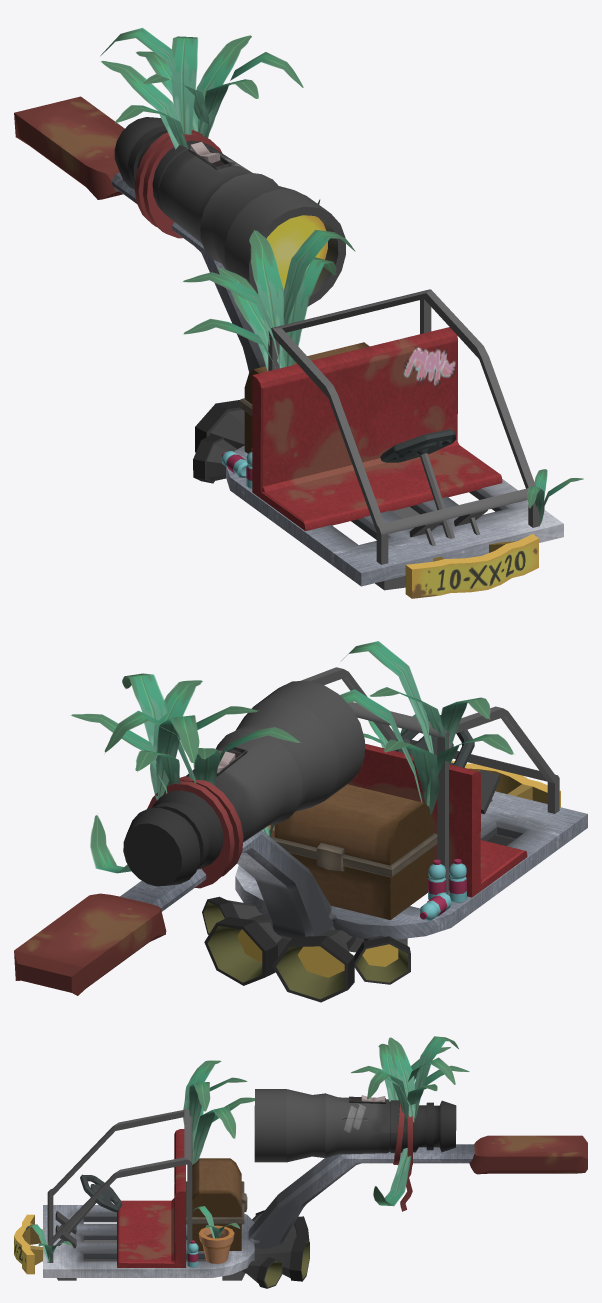
3 views of the same model, one above another, from view 1: azimuth 30°, elevation 25°; view 2: azimuth 150°, elevation 25°; view 3: azimuth 270°, elevation 25° (orthographic). The views are drawn at different scales.
Visible parts, largest first — view 1: Stoel1, Spatel2, zAKLAMP, Metalbars2, Kenteken, pasted__pasted___pPlane2, _pPlane3, Stuur2, Uitlaat4, pasted__pasted___pPlane3, zaklamptouw, _pPlane2 (+9 smaller); view 2: Spatel2, zAKLAMP, Koffer4, Stoel1, Metalbars2, Uitlaat4, Uitlaat2, Uitlaat5, _pPlane3__lambert2_0.001, zaklamptouw2, pasted__pasted___pPlane3, pasted___pPlane3 (+22 smaller); view 3: Spatel2, zAKLAMP, Stoel1, Koffer4, Metalbars2, Uitlaat2, Kenteken, Bloempoot, Stuur2, pasted__pasted___pPlane3_pasted__pasted___lambert2_0.001, pasted___pPlane6, Uitlaat3 (+11 smaller).
Boxes of the visible parts, box(x1,y1,x2,y2) form: Stoel1: box(252, 327, 502, 531); Spatel2: box(14, 96, 563, 586); zAKLAMP: box(114, 117, 345, 306); Metalbars2: box(268, 289, 539, 564); Kenteken: box(405, 534, 538, 598); pasted__pasted___pPlane2: box(249, 230, 283, 364); _pPlane3: box(171, 36, 197, 134); Stuur2: box(380, 429, 455, 538); Uitlaat4: box(195, 400, 244, 452); pasted__pasted___pPlane3: box(283, 230, 355, 324); zaklamptouw: box(143, 133, 222, 238); _pPlane2: box(101, 61, 178, 149); Spatel2: box(14, 791, 587, 995); zAKLAMP: box(123, 680, 364, 886); Koffer4: box(271, 784, 437, 919); Stoel1: box(348, 743, 527, 897); Metalbars2: box(300, 667, 559, 894); Uitlaat4: box(272, 929, 355, 1002); Uitlaat2: box(204, 917, 290, 985); Uitlaat5: box(354, 935, 410, 984); _pPlane3__lambert2_0.001: box(156, 715, 199, 798); zaklamptouw2: box(147, 781, 234, 888); pasted__pasted___pPlane3: box(341, 641, 433, 753); pasted___pPlane3: box(122, 673, 167, 746); Spatel2: box(43, 1135, 587, 1277); zAKLAMP: box(254, 1089, 456, 1162); Stoel1: box(117, 1129, 185, 1267); Koffer4: box(186, 1158, 247, 1250); Metalbars2: box(47, 1109, 192, 1262); Uitlaat2: box(254, 1238, 309, 1281); Kenteken: box(14, 1214, 42, 1274); Bloempoot: box(198, 1225, 234, 1263); Stuur2: box(59, 1174, 122, 1238); pasted__pasted___pPlane3_pasted__pasted___lambert2_0.001: box(193, 1106, 235, 1164); pasted___pPlane6: box(373, 1148, 410, 1206); Uitlaat3: box(242, 1257, 282, 1288).
Size of the model in its own units: 2.8 by 3.07 by 7.14.
Materials: 17 (4 with a texture image).
